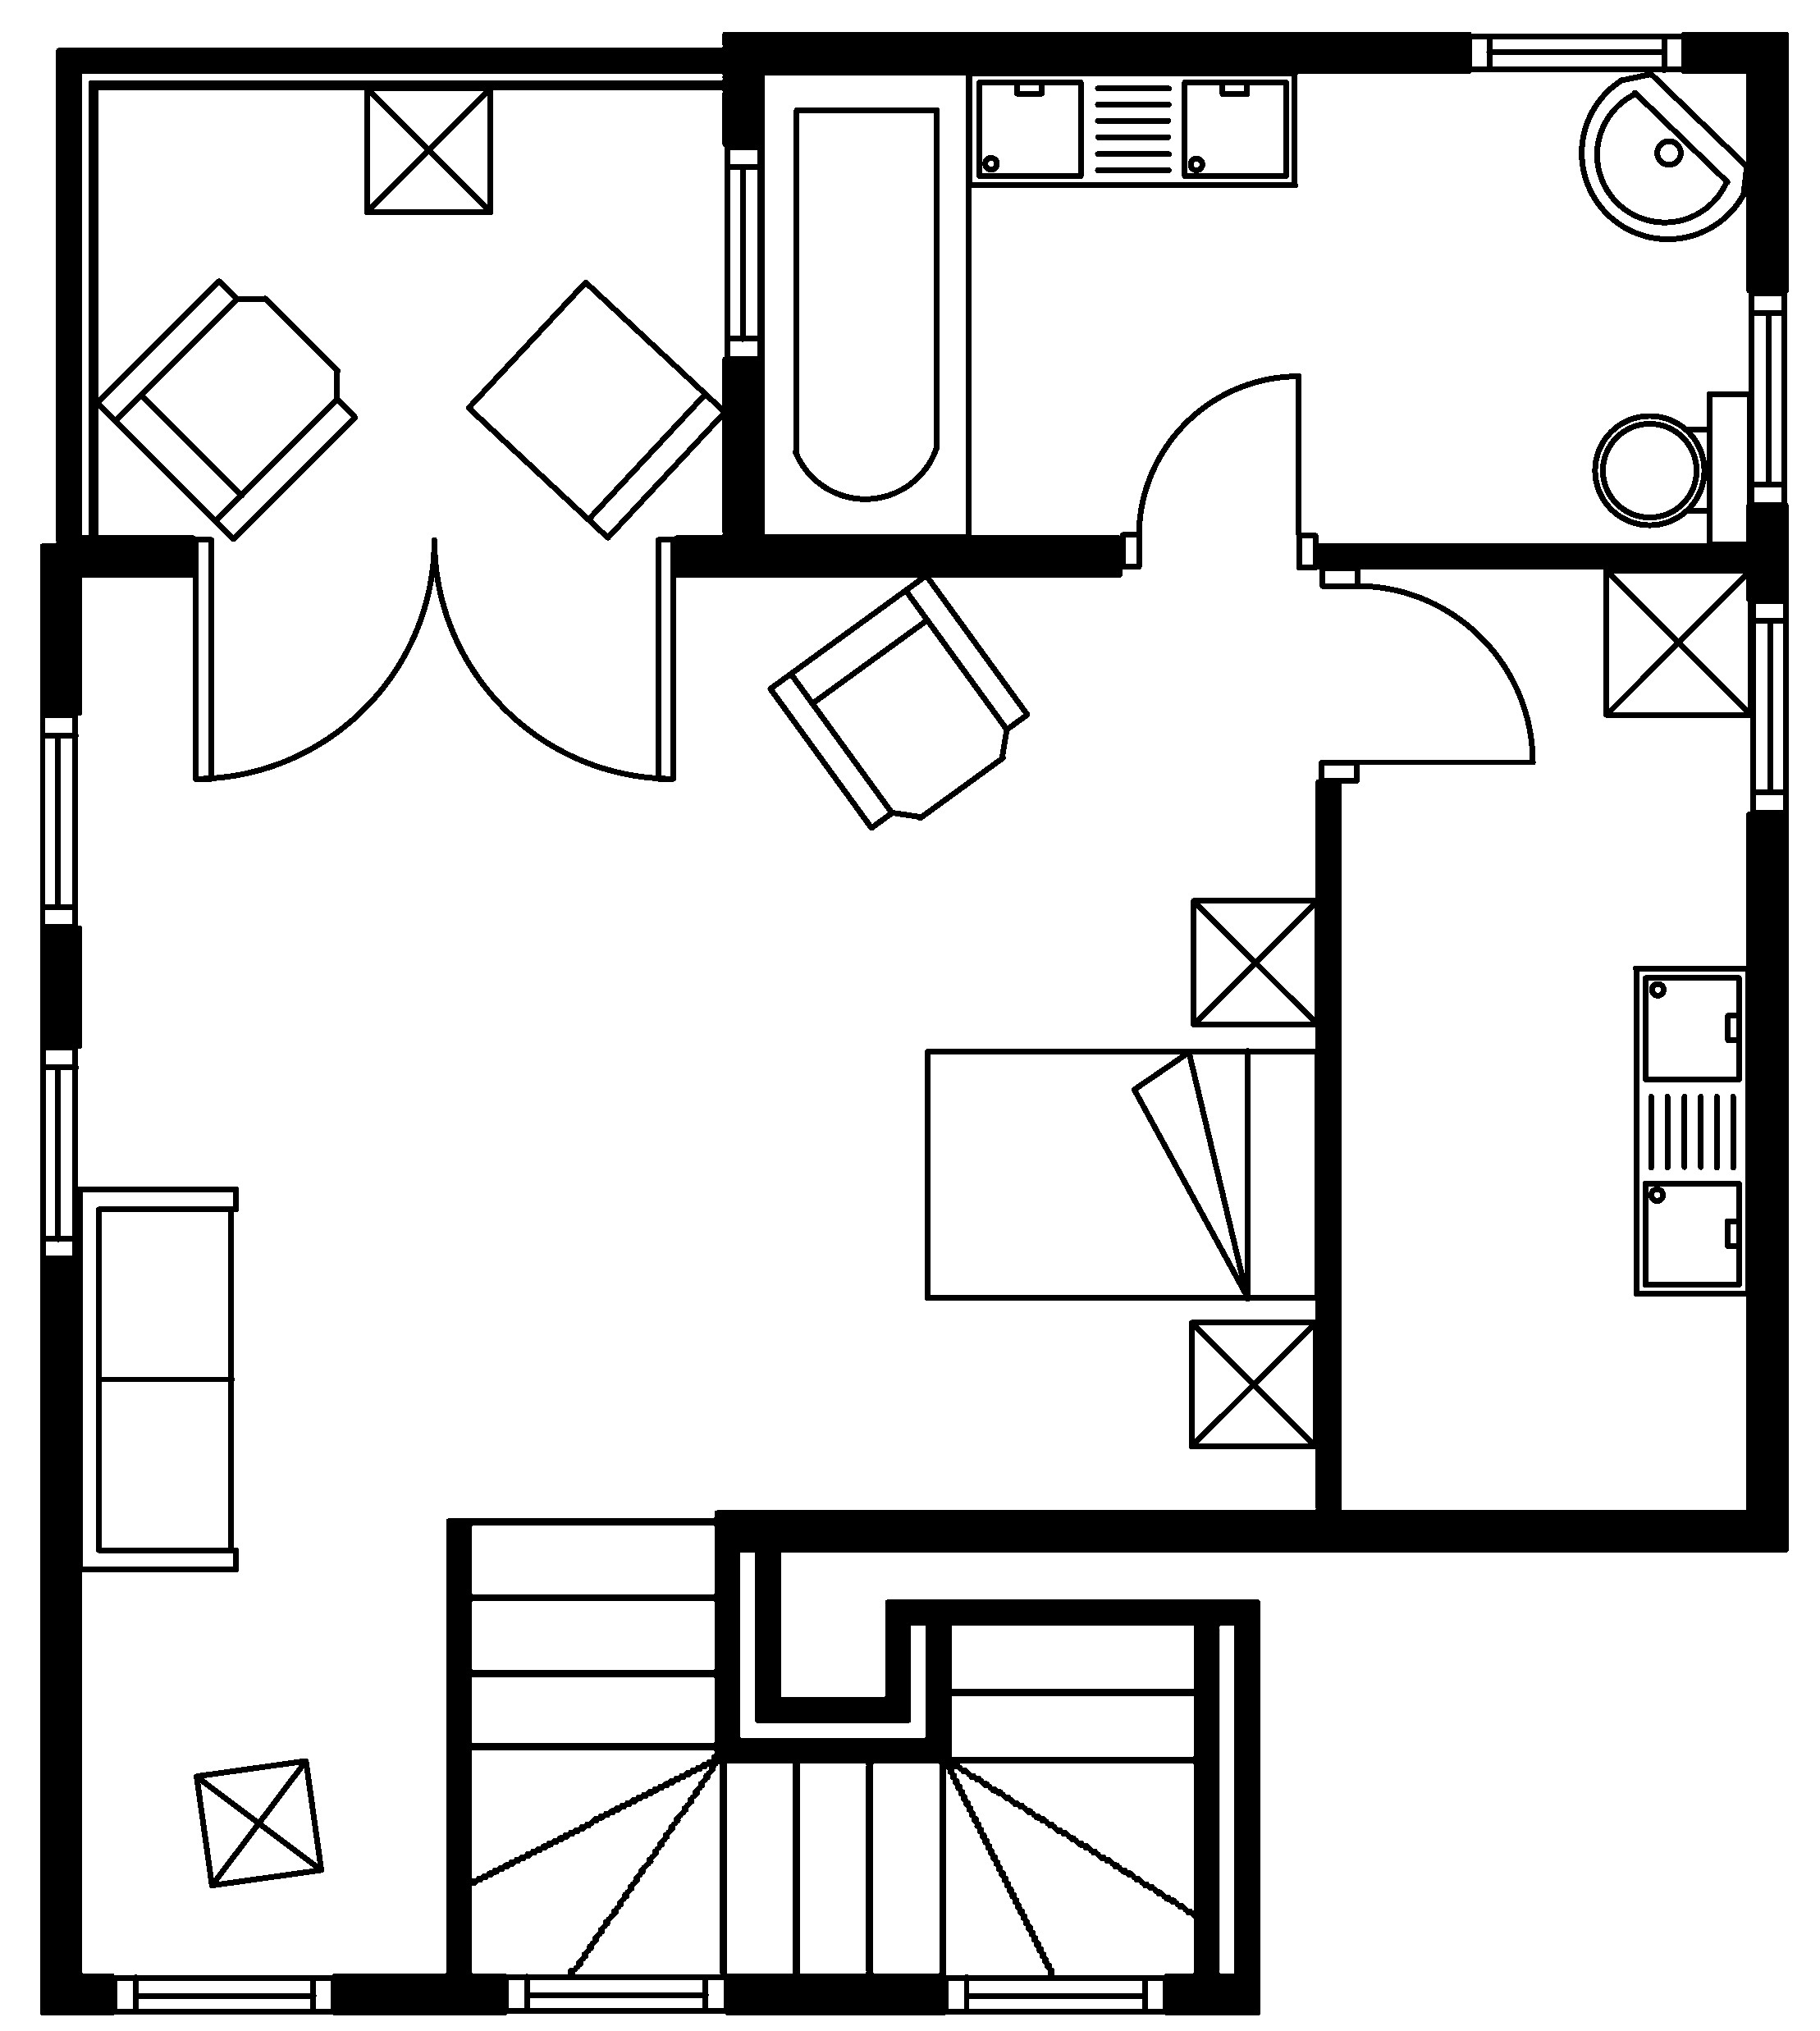armchair: (93, 276, 358, 543), (766, 571, 1029, 831)
bed: (922, 1047, 1321, 1302)
coffee_table: (1602, 566, 1753, 719), (1186, 1318, 1319, 1449), (1189, 896, 1321, 1028), (191, 1757, 323, 1889), (362, 84, 494, 214)
large_sink: (1592, 388, 1753, 548)
large_sofa: (76, 1184, 239, 1572)
small_sink: (1578, 70, 1750, 241)
small_sofa: (464, 278, 727, 541)
tub: (757, 69, 971, 539)
twin_sink: (1630, 963, 1751, 1297), (964, 69, 1298, 188)
